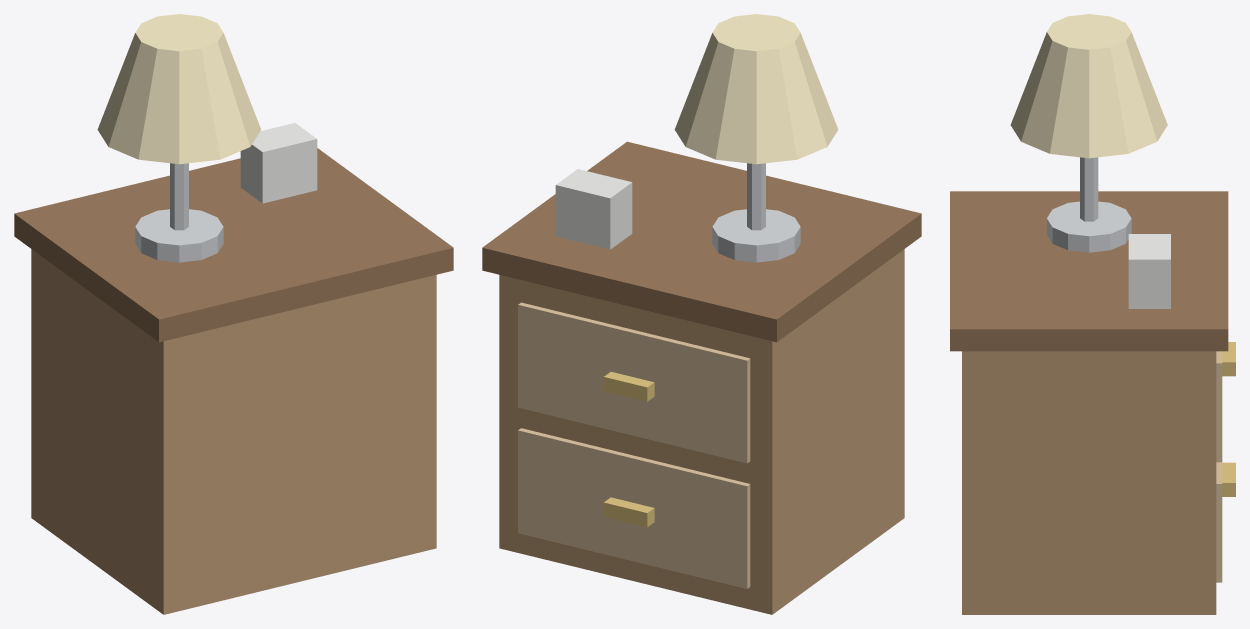
File: nightstand.glb
3 views of the same model, side by side, from view 1: azimuth 30°, elevation 25°; view 2: azimuth 150°, elevation 25°; view 3: azimuth 270°, elevation 25° (orthographic). The views are drawn at different scales.
Parts seen in each view (by area): view 1: nightstand; view 2: nightstand; view 3: nightstand.
Boxes of the visible parts, x1,y1,x2,y2 form: nightstand: (14, 14, 453, 614); nightstand: (482, 14, 921, 614); nightstand: (950, 14, 1235, 614).
Size of the model in its own units: 0.54 by 0.9 by 0.4725.
